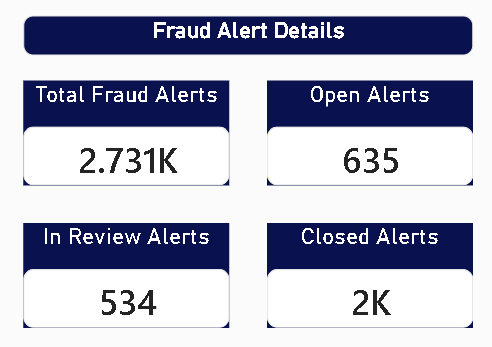

Layout of this report page (visuals, bound fields, positions):
{"tool":"powerbi","page":{"name":"Tool Tip - Fraud Analysis","canvas":[400,300],"ordinal":1},"visuals":[{"type":"textbox","title":"Fraud Alert Details","box":[21,14,360,32],"z":0},{"type":"cardVisual","title":"Total Fraud Alerts","fields":{"Data":["CountNonNull(fraud_detection fraud_alerts.txn_id)"]},"box":[21,66,165,84],"z":1000},{"type":"cardVisual","title":"Open Alerts","fields":{"Data":["Measure Table.Open alerts"]},"box":[216,66,165,84],"z":2000},{"type":"cardVisual","title":"In Review Alerts","fields":{"Data":["Measure Table.In Review Alerts"]},"box":[21,180,165,84],"z":3000},{"type":"cardVisual","title":"Closed Alerts","fields":{"Data":["Measure Table.Confirmed Fraud"]},"box":[216,180,165,84],"z":4000}]}

Visuals, with their boxes on the page's 400x300 design canvas (x1, y1, x2, y2). These are canvas units, not pixel positions in the 492x347 screenshot, which may show the page scaled, cropped or inside an application window:
"Fraud Alert Details" textbox: x1=21, y1=14, x2=381, y2=46
"Total Fraud Alerts" cardVisual: x1=21, y1=66, x2=186, y2=150
"Open Alerts" cardVisual: x1=216, y1=66, x2=381, y2=150
"In Review Alerts" cardVisual: x1=21, y1=180, x2=186, y2=264
"Closed Alerts" cardVisual: x1=216, y1=180, x2=381, y2=264
